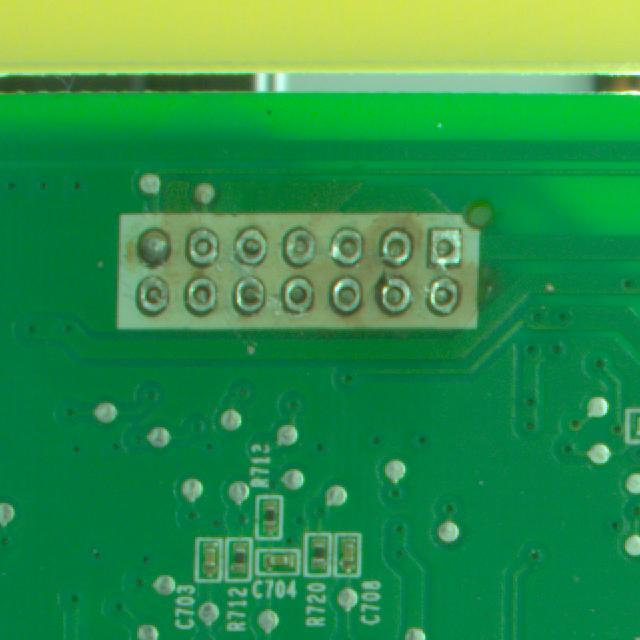Insufficient solder: (180, 225, 225, 271), (278, 270, 317, 319), (131, 272, 170, 321), (425, 275, 468, 316), (230, 276, 269, 321), (179, 275, 218, 319), (376, 276, 416, 318), (281, 222, 318, 267), (329, 225, 366, 268), (428, 222, 461, 268), (235, 224, 267, 270), (332, 275, 362, 324), (382, 227, 414, 270)
